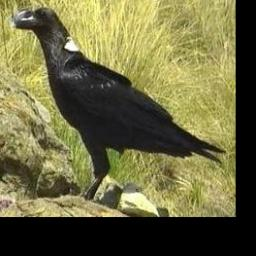Crow: (10, 4, 228, 204)
